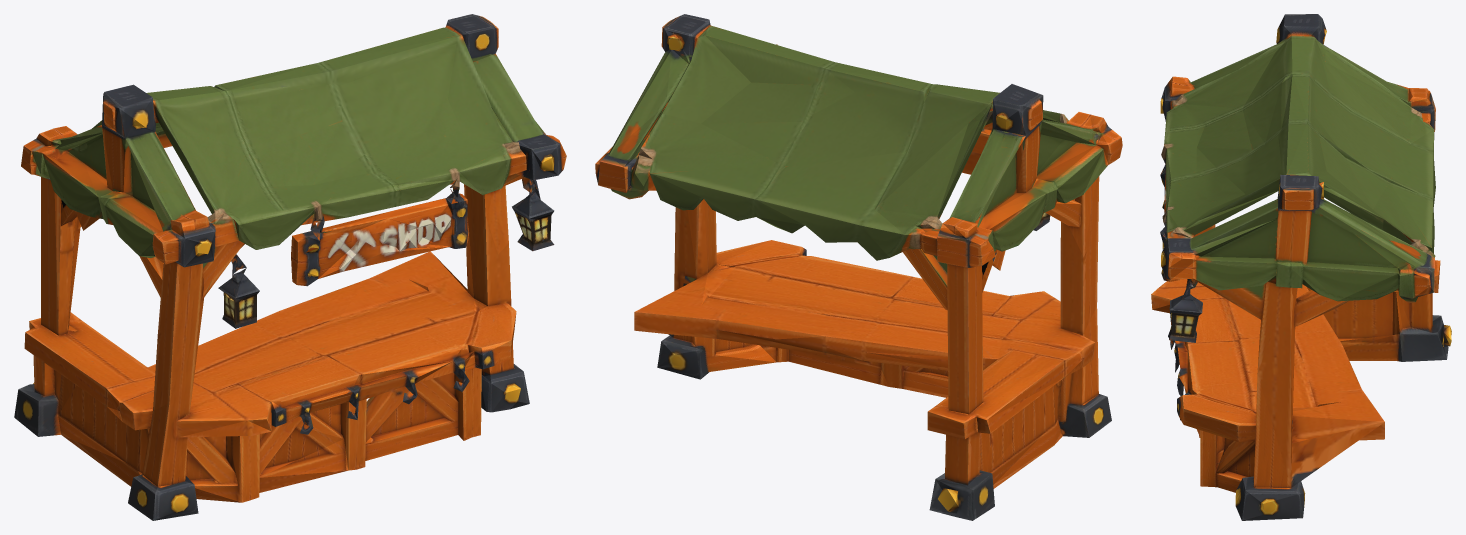
The model's file is WoodlandMarketStall.fbx.
3 renders of one model, left to right at view 1: azimuth 30°, elevation 25°; view 2: azimuth 150°, elevation 25°; view 3: azimuth 270°, elevation 25°, orthographic. The views are drawn at different scales.
Visible parts, largest first — view 1: output_unwrapped; view 2: output_unwrapped; view 3: output_unwrapped.
Part boxes in pixels (bbox=[...]): output_unwrapped: bbox=[14, 14, 566, 520]; output_unwrapped: bbox=[595, 14, 1122, 520]; output_unwrapped: bbox=[1151, 14, 1451, 520].
Bounding box in the file's own units: 190 × 166 × 133.
Materials: 1 (1 with a texture image).
